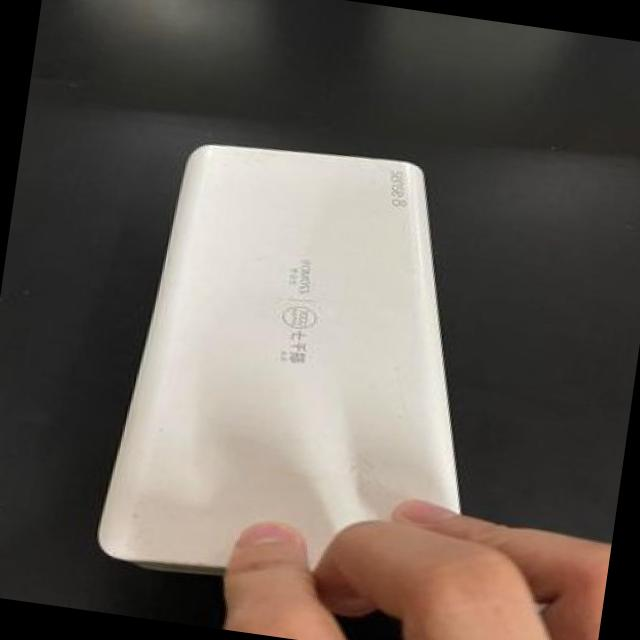portable-charger: (83, 121, 510, 635)
